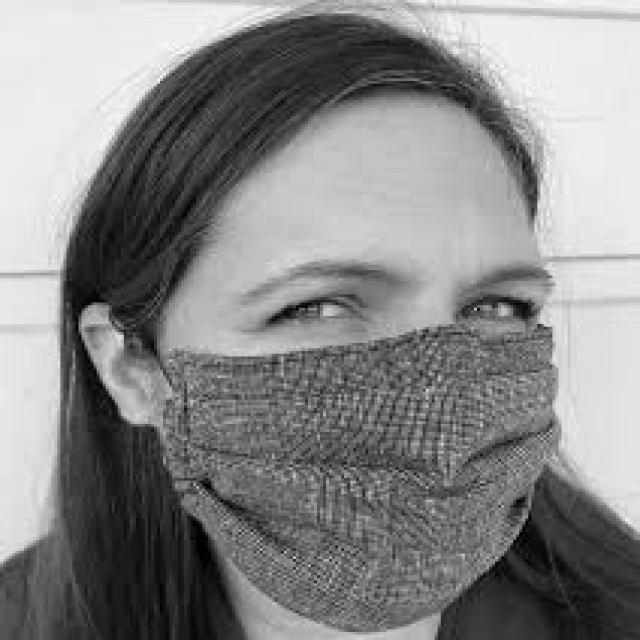fake: (161, 317, 567, 627)
real: (155, 86, 555, 640)
